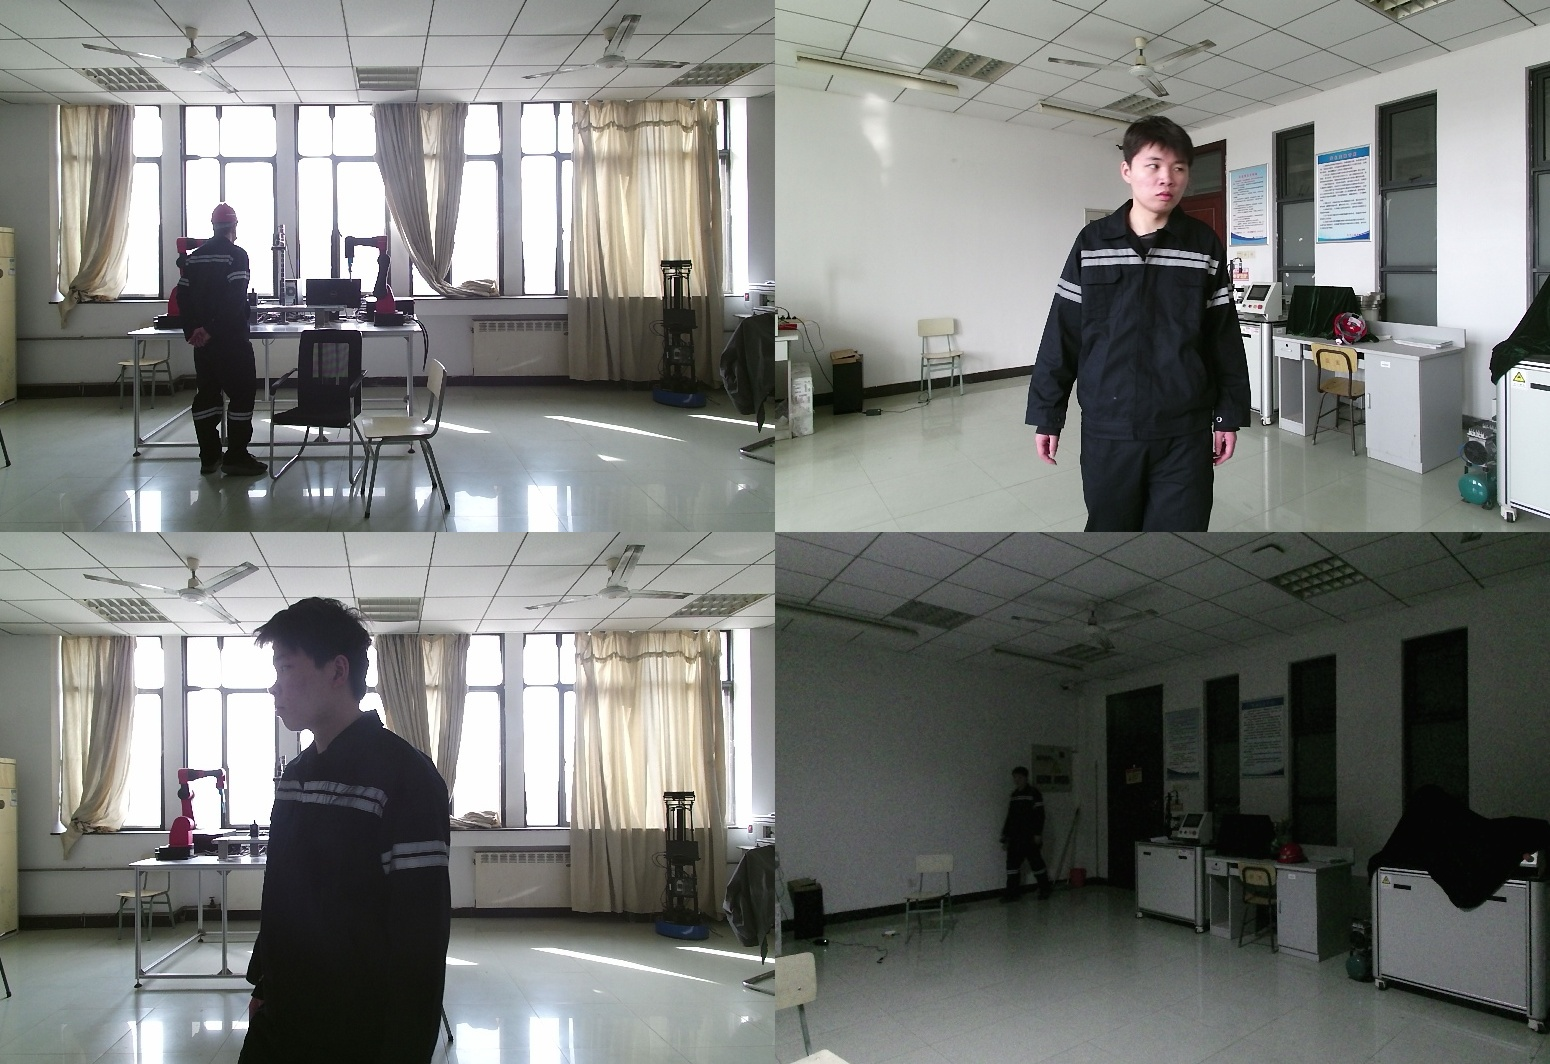person: (250, 596, 496, 1064), (1029, 116, 1257, 532), (174, 204, 272, 479), (1001, 769, 1052, 906)
